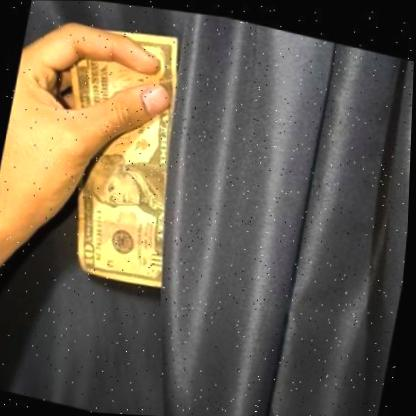ten-front: (35, 5, 211, 295)
